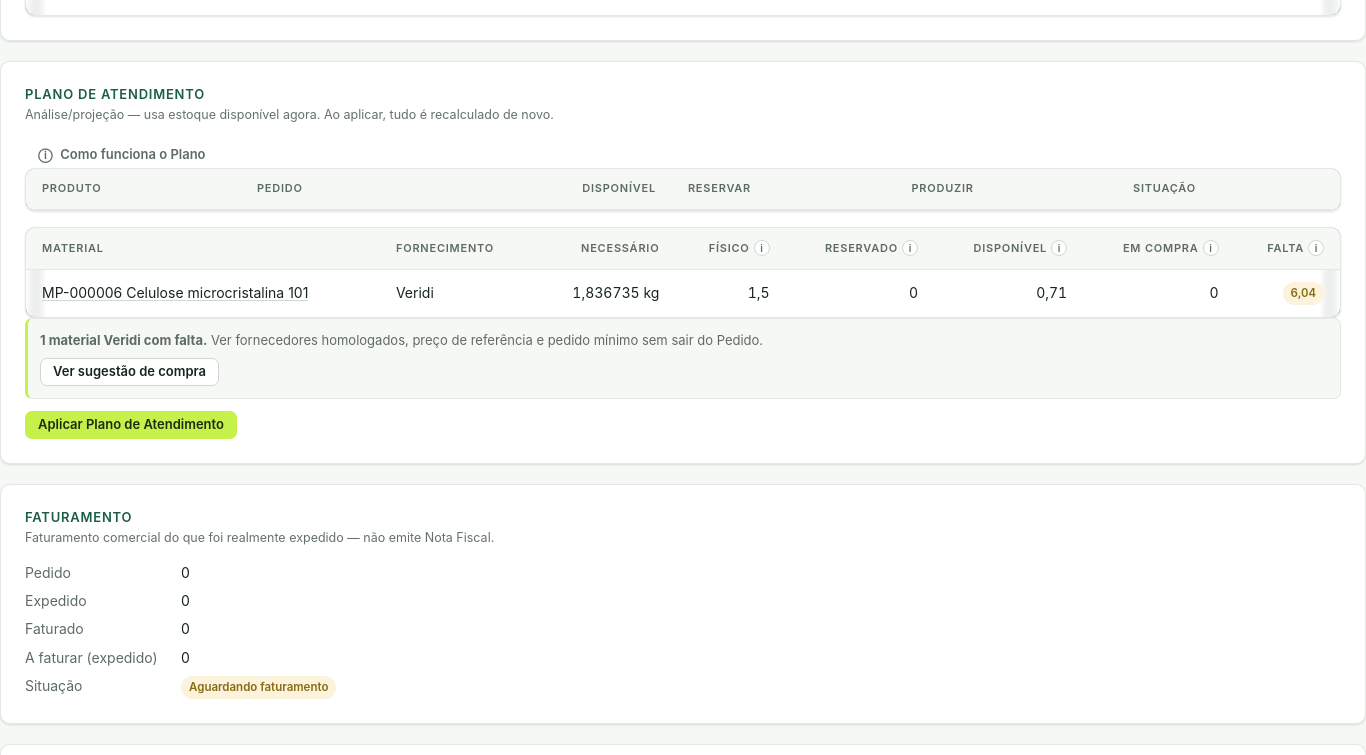
Test: Plano de Atendimento — material do cliente › falta de material Veridi oferece o caminho para Compras sem sair do Pedido
(page scrolled)
Expected: the link "MP-000006 Celulose microcristalina 101" is shown, [42,284,308,301]
Click the button "Ver sugestão de compra" at (130, 372), box [40,358,219,386]
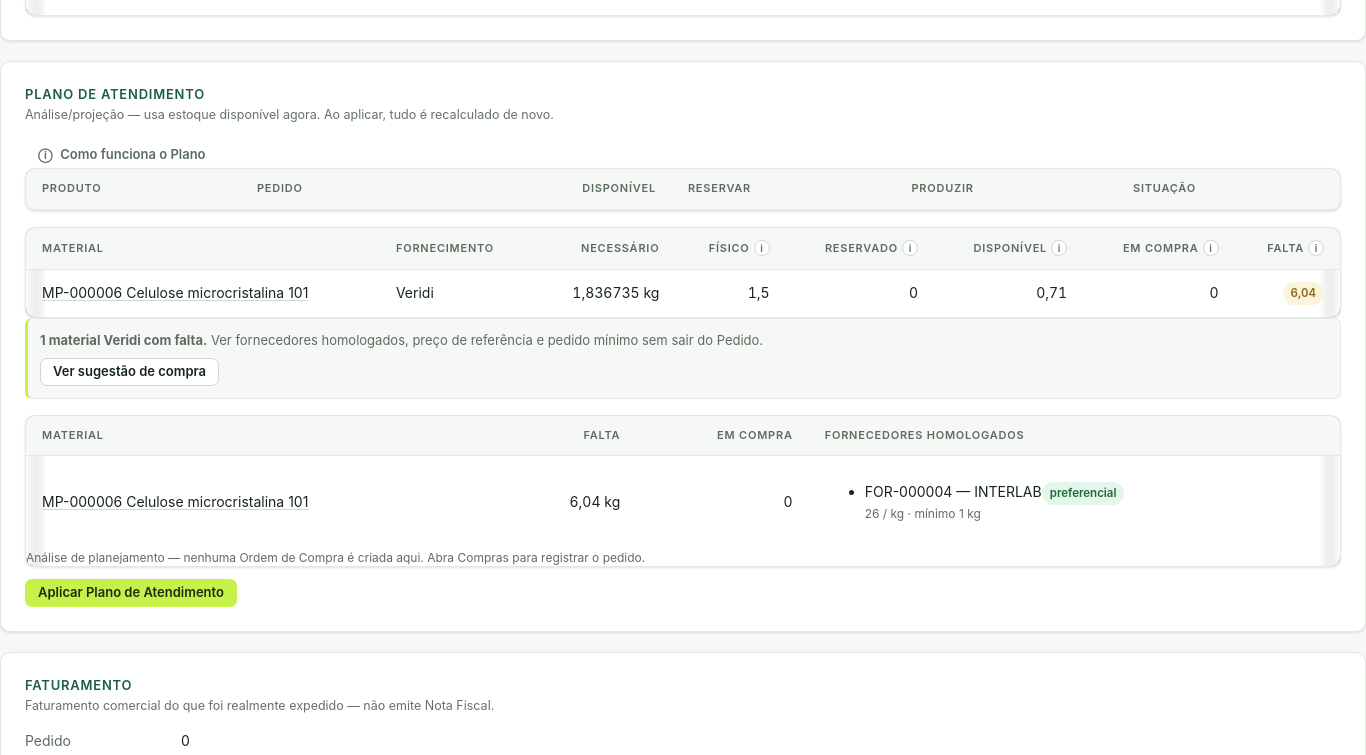
Expected: the list item "FOR-000004 — INTERLAB preferencial 26 / kg · mínimo 1 kg" is shown, [865,482,1124,521]
Expected: the text "26 / kg · mínimo 1 kg" is shown, [865,506,981,521]
Expected: the text "nenhuma Ordem de Compra é criada aqui" is shown, [26,550,645,564]
